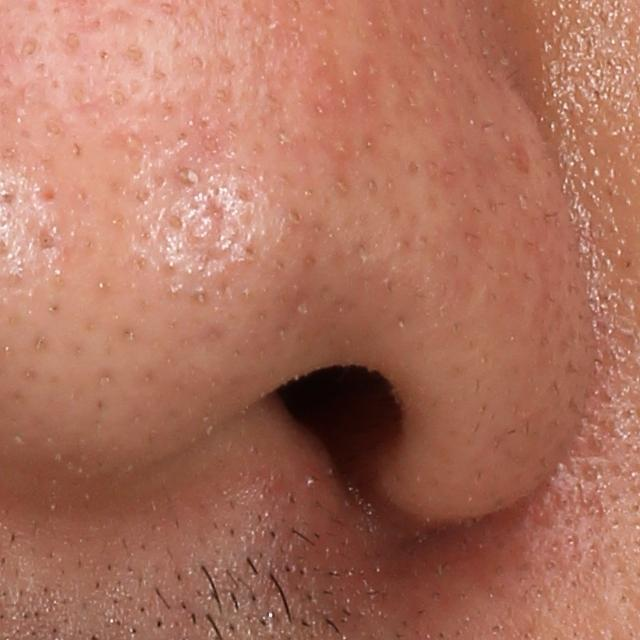comedo: (164, 160, 204, 195), (15, 36, 43, 62), (62, 27, 85, 58), (121, 43, 144, 69)
